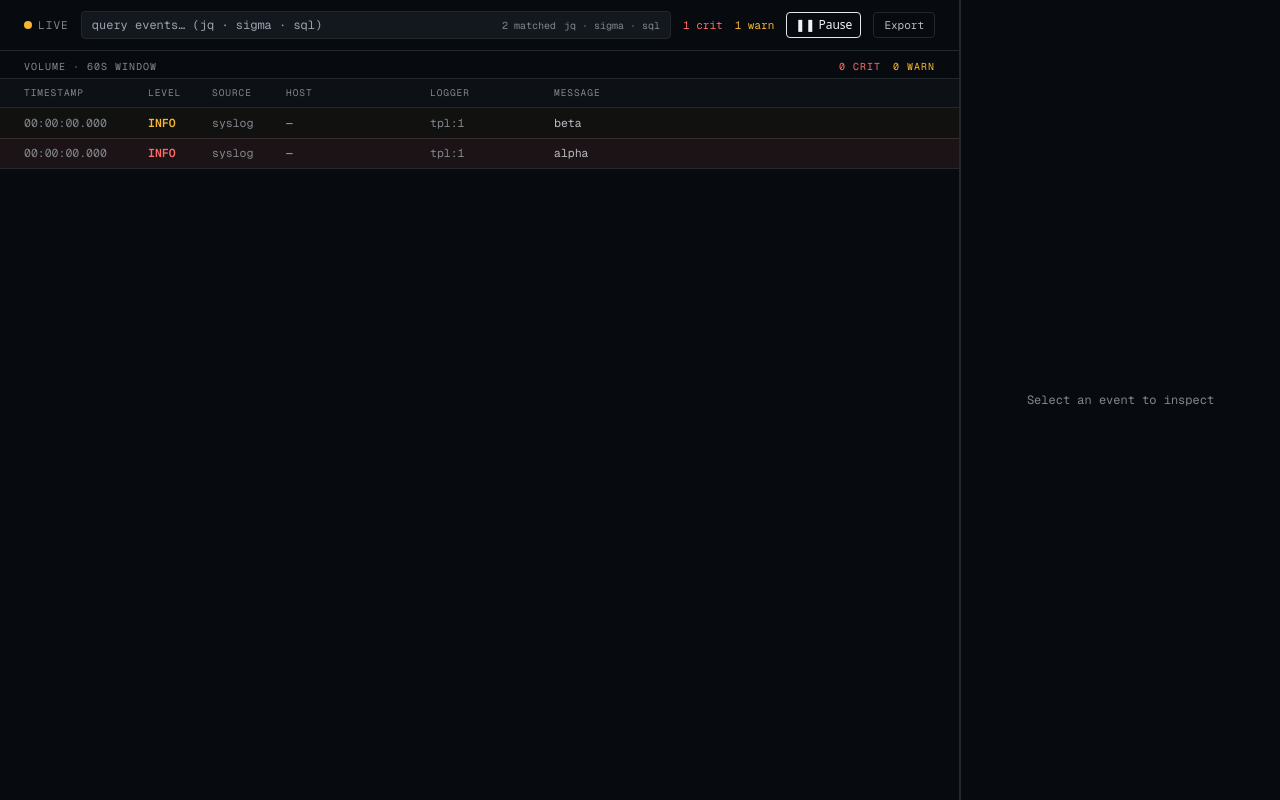
Scenario: EventsScreen › shows a non-blocking validity hint for an invalid query (all events kept)
The image size is (1280, 800).
expect the text "2 matched" is shown: met, box [502,18,556,32]
Type "nope: value" into the field with test id "event-query-field" at (293, 25), box [92,16,494,34]
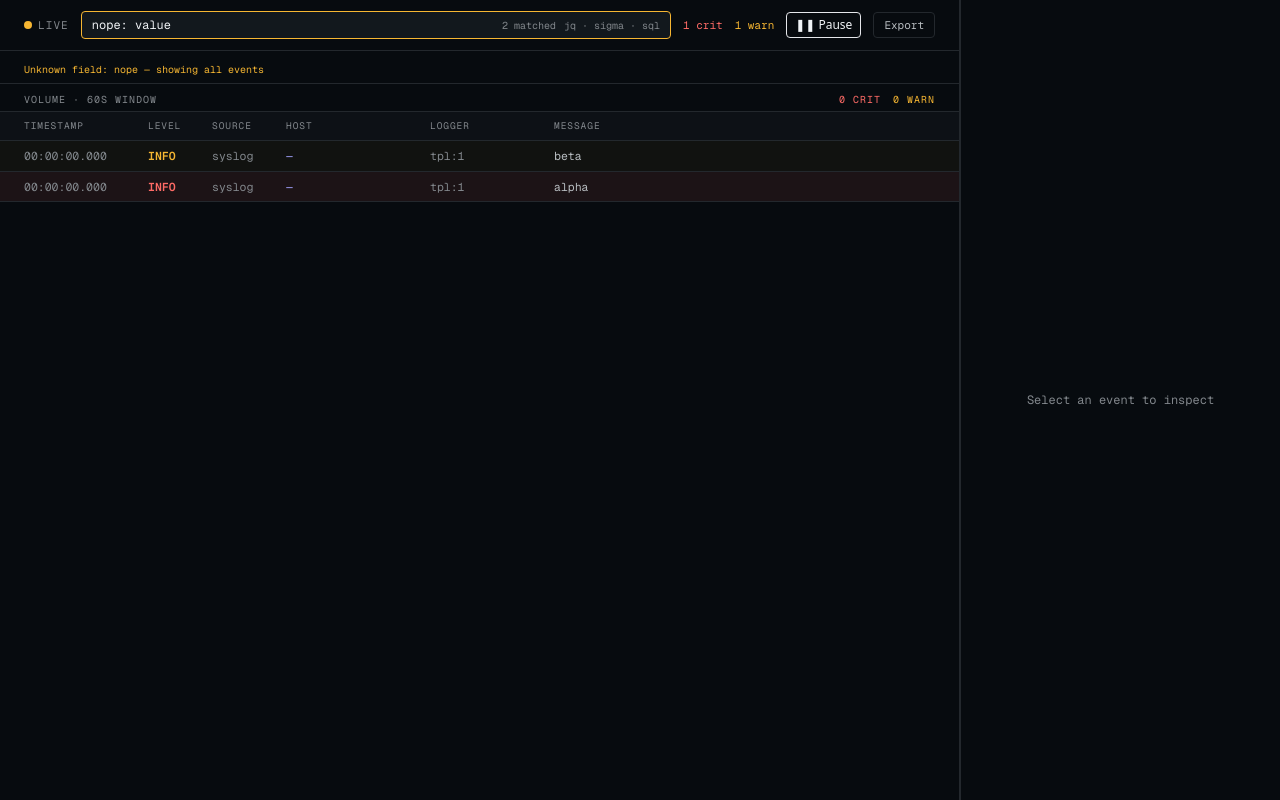
expect the text with test id "event-match-count" shows "2": met, box [502,18,508,32]
expect the text "Unknown field: nope — showing all events" is shown: met, box [24,63,264,76]
